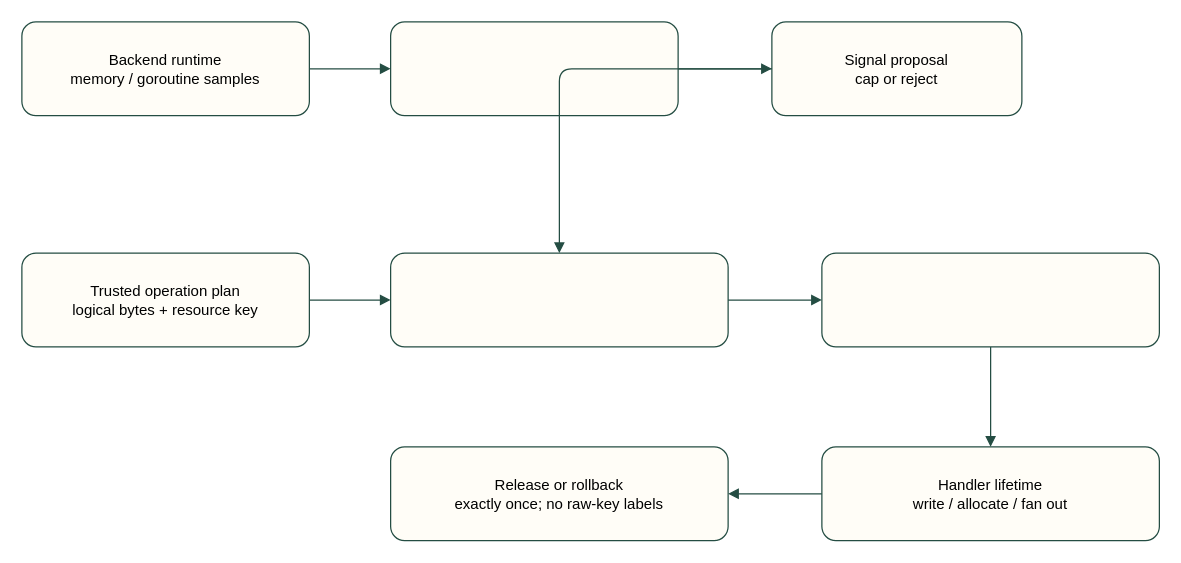
This 1181x563 diagram has some shape labels left out. The shapes that lost their labels are listed below. From the top down, each one's centre as x and y in pixels, then its label:
At point 533,68: "Cached signals freshness + failure policy".
At point 558,299: "Resource reservations atomic bytes + hashed keys".
At point 990,299: "Hard admission tenant / priority / service".
